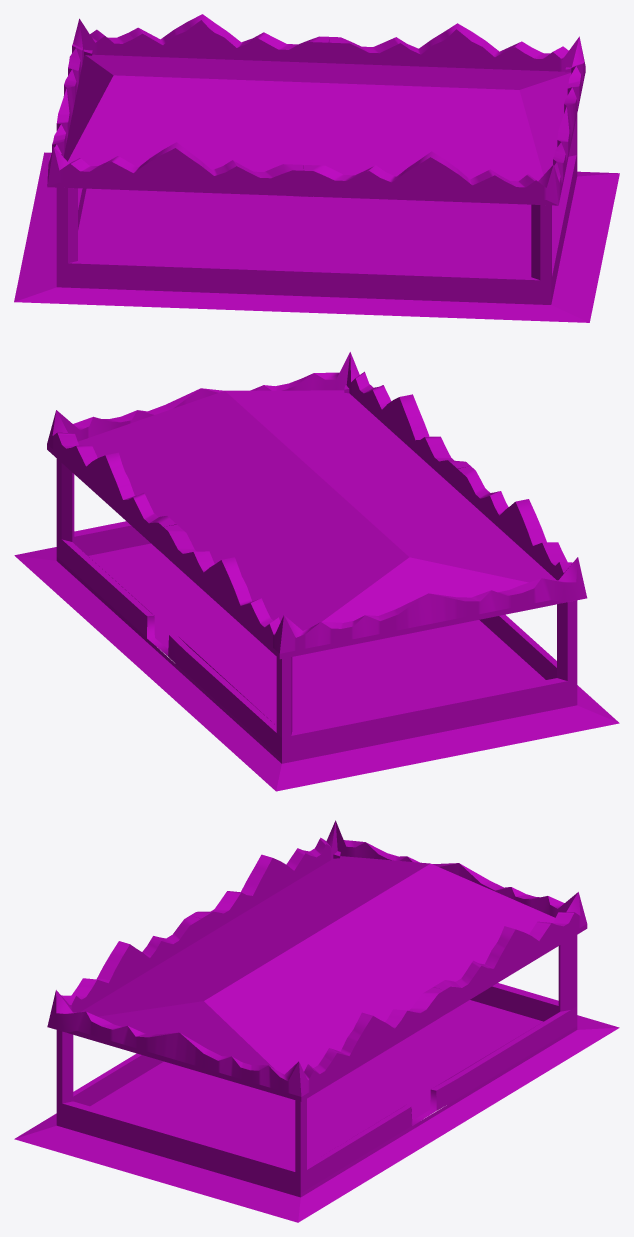
The model's file is BumperCarRide.fbx.
3 views of the same model, one above another, from view 1: azimuth 30°, elevation 25°; view 2: azimuth 150°, elevation 25°; view 3: azimuth 270°, elevation 25° (orthographic). The views are drawn at different scales.
Visible parts, largest first — view 1: Roof, Base; view 2: Roof, Base; view 3: Roof, Base.
Part boxes in pixels (x1,y1,x2,y2): Roof: (47, 14, 585, 205); Base: (14, 49, 619, 322); Roof: (47, 352, 587, 659); Base: (14, 385, 619, 791); Roof: (47, 820, 587, 1101); Base: (14, 851, 619, 1222).
Size of the model in its own units: 26.32 by 6.64 by 24.17.
